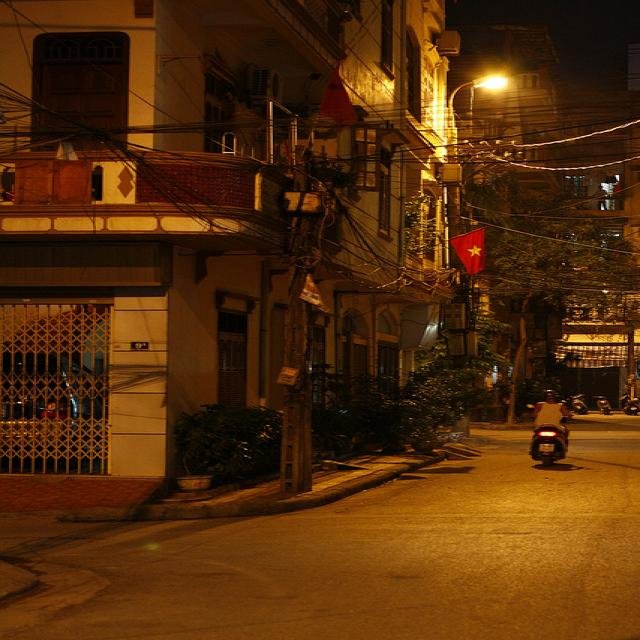Motorbike: (503, 369, 590, 465)
